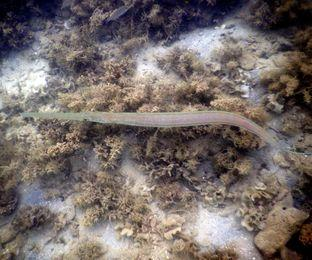Fistularia commersonii: (1, 88, 287, 159)
